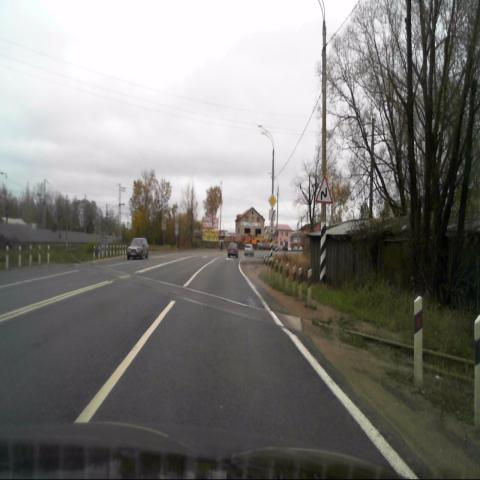1_12: (316, 176, 332, 204)
